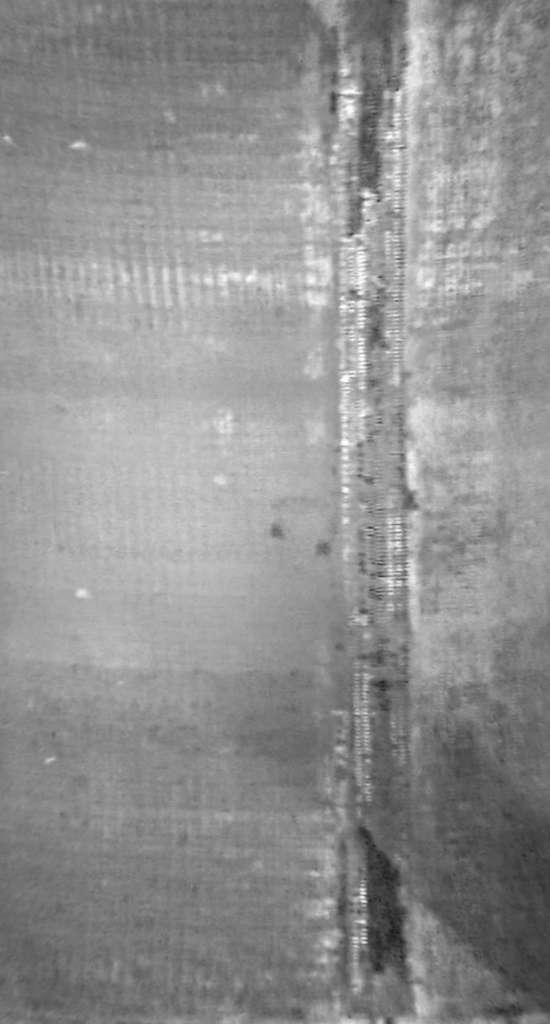splice: (306, 1, 426, 1024)
